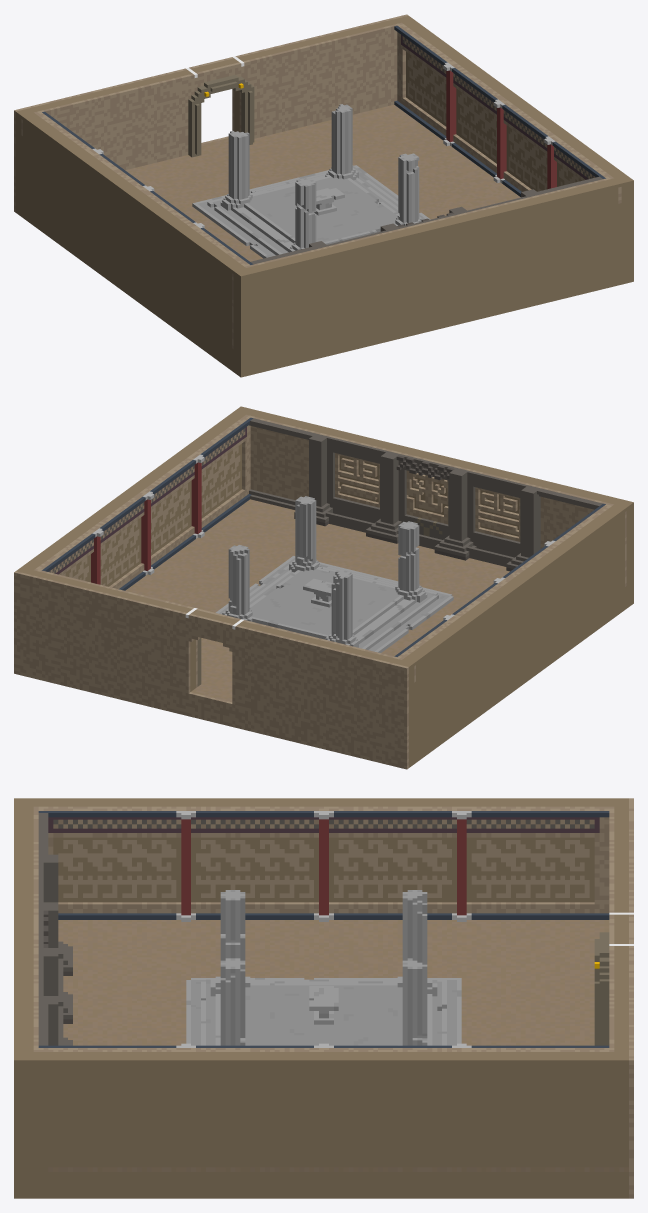
File: Small Room1-1.obj
3 views of the same model, one above another, from view 1: azimuth 30°, elevation 25°; view 2: azimuth 150°, elevation 25°; view 3: azimuth 270°, elevation 25° (orthographic). The views are drawn at different scales.
Size of the model in its own units: 12.6 by 3.1 by 12.6.
